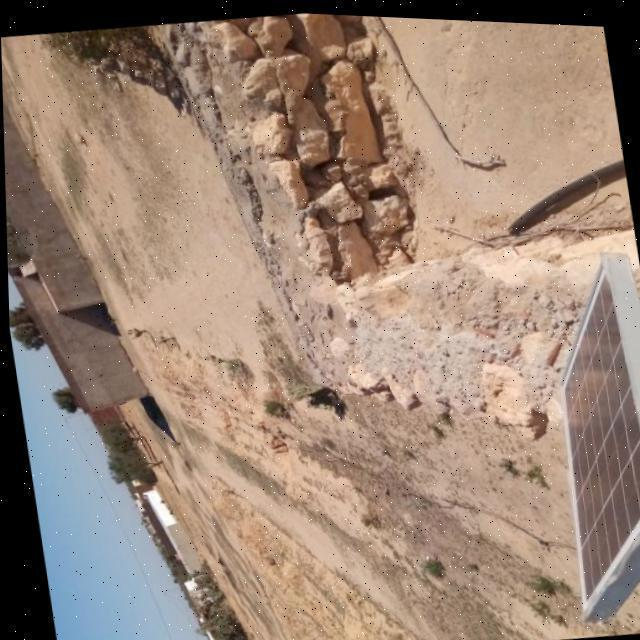Normal Solar Panel: (529, 244, 640, 616)
